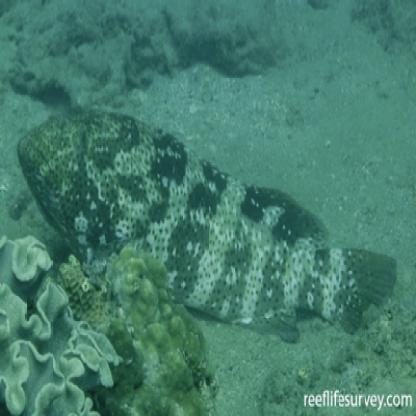Serranidae -Groupers-: (17, 91, 401, 347)
